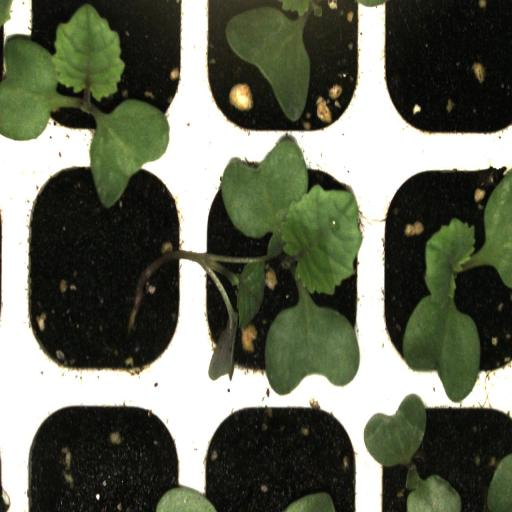askew: (16, 152, 200, 389)
noseedling: (372, 1, 512, 151)
seedling: (192, 150, 372, 390), (371, 148, 512, 389), (16, 0, 191, 147)
